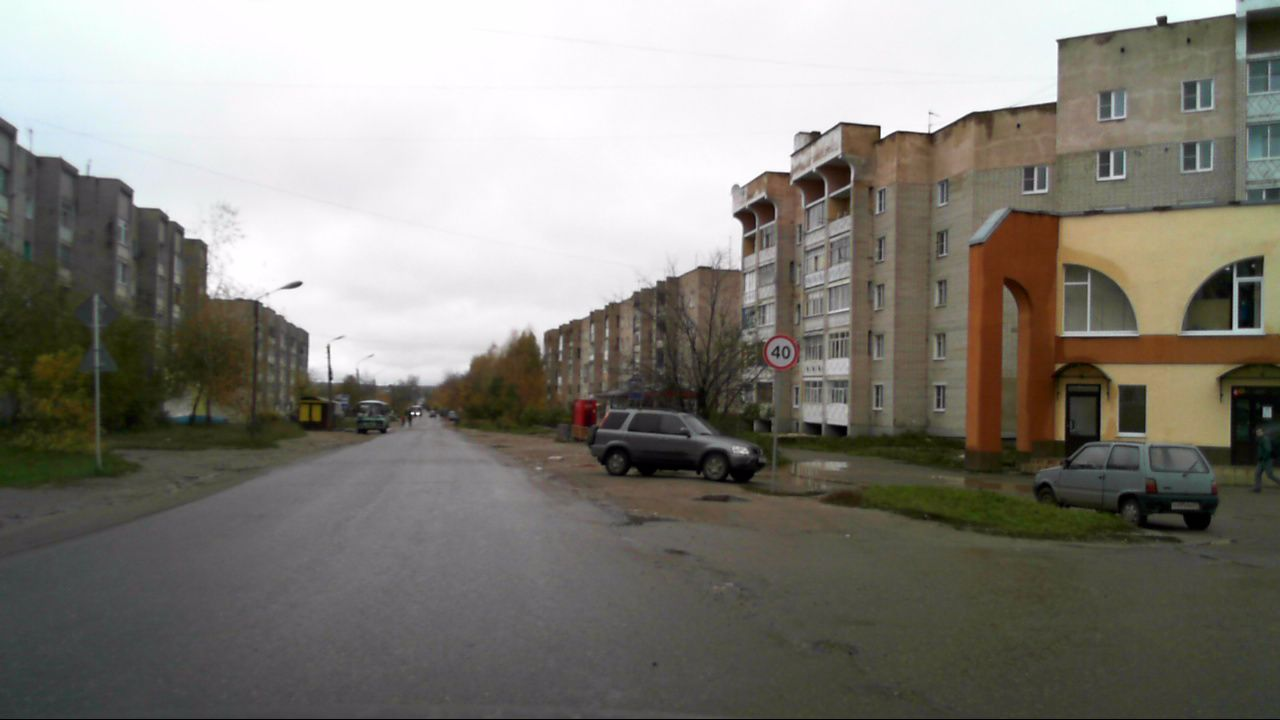speed_warning_40: (761, 333, 800, 371)
